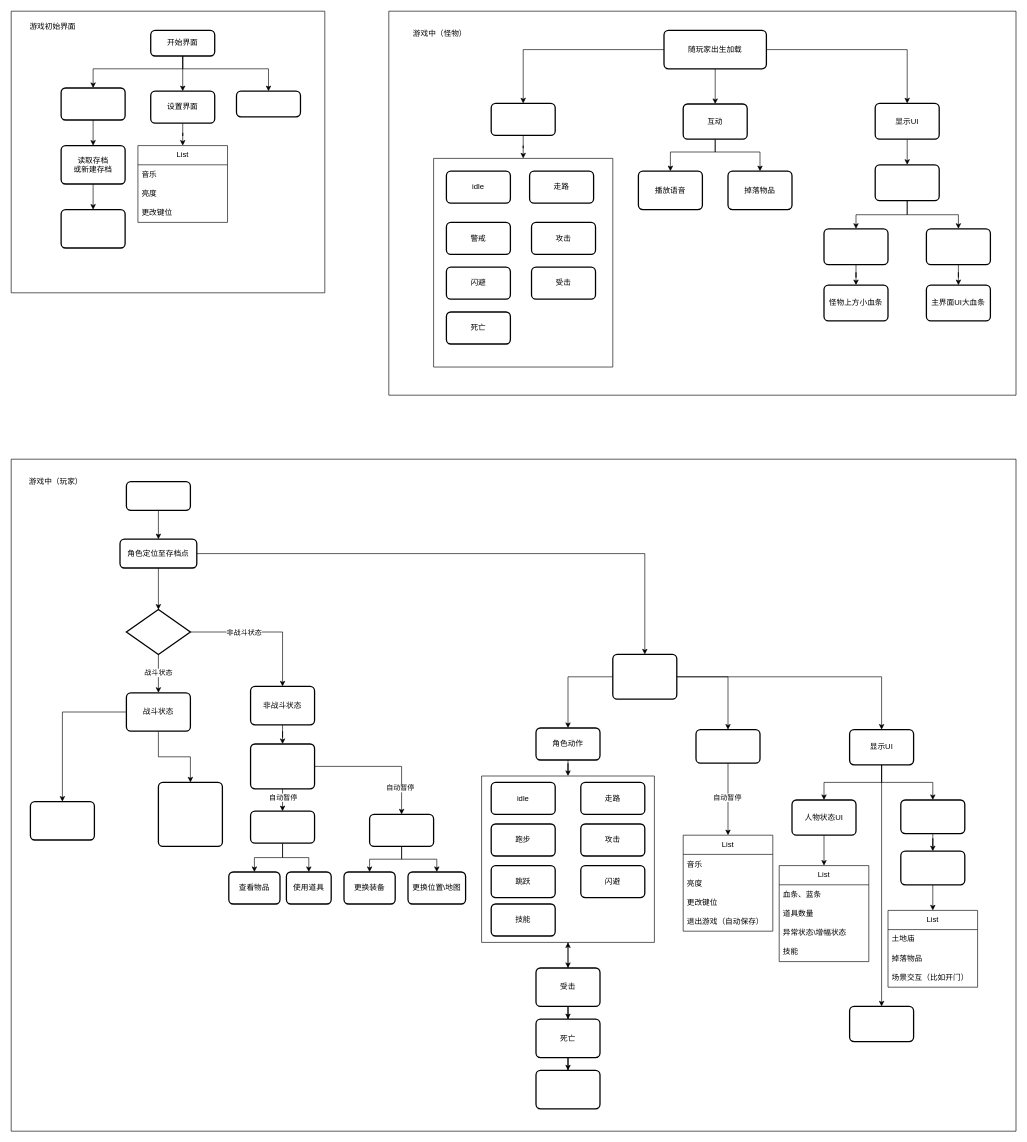
Image size: 1027x1142. Some labels were removed from this diagram. Here are the shapes that lost their labels. From the top down, the centre of each, then its label:
At (x=92, y=103): "开始游戏/ 继续游戏".
At (x=268, y=103): "退出游戏".
At (x=523, y=119): "对象动画".
At (x=907, y=182): "怪物状态".
At (x=92, y=228): "进入游戏".
At (x=855, y=246): "小怪".
At (x=958, y=246): "BOSS".
At (x=158, y=496): "成功进入游戏".
At (x=158, y=632): "检查角色状态 （后台）".
At (x=644, y=676): "状态无关操作".
At (x=282, y=766): "UI操作".
At (x=727, y=746): "打开设置".
At (x=62, y=820): "音乐自动改变".
At (x=190, y=814): "视野锁定".
At (x=282, y=827): "打开背包".
At (x=401, y=830): "与土地庙交互".
At (x=932, y=816): "场景交互UI".
At (x=932, y=867): "靠近可交互物显示".
At (x=881, y=1023): "地图UI".
At (x=567, y=1089): "重生至检查点".
